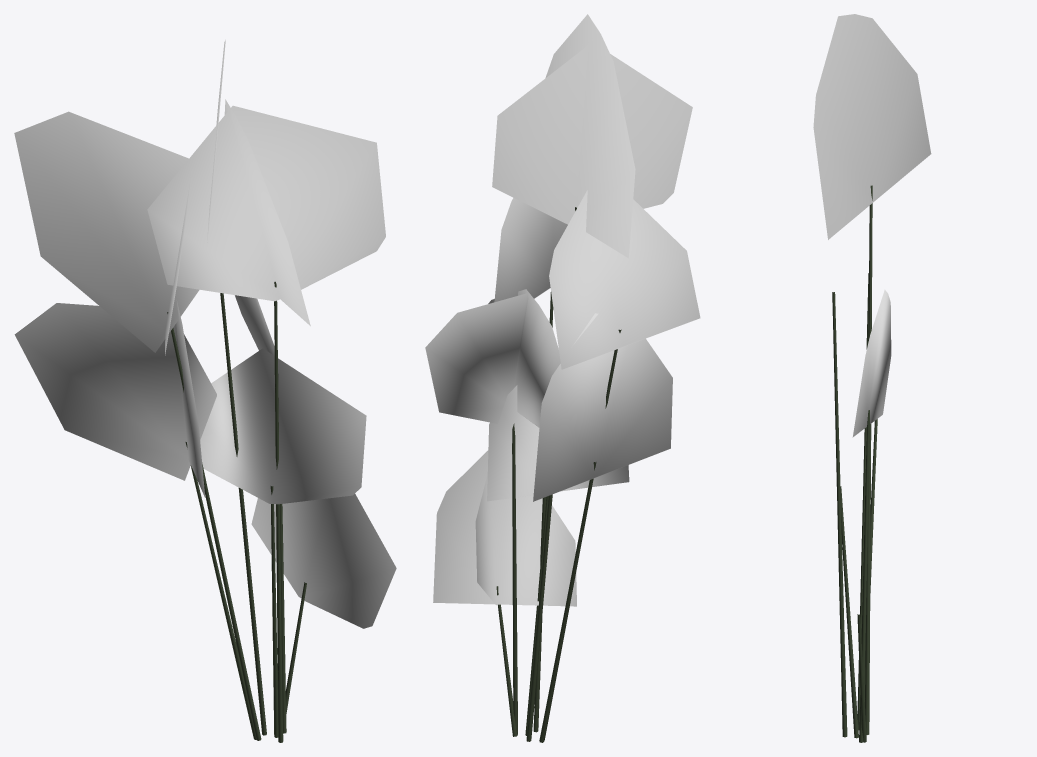
File: bamboo_3.glb
The picture shows the model from 3 angles, left to right: view 1: azimuth 30°, elevation 25°; view 2: azimuth 150°, elevation 25°; view 3: azimuth 270°, elevation 25°; orthographic projection. The views are drawn at different scales.
Parts seen in each view (by area): view 1: bamboo_3; view 2: bamboo_3; view 3: bamboo_3.
Boxes of the visible parts, x1,y1,x2,y2 form: bamboo_3: (14, 39, 396, 742); bamboo_3: (425, 14, 700, 742); bamboo_3: (813, 14, 931, 742).
Size of the model in its own units: 3.38 by 7.76 by 2.96.
